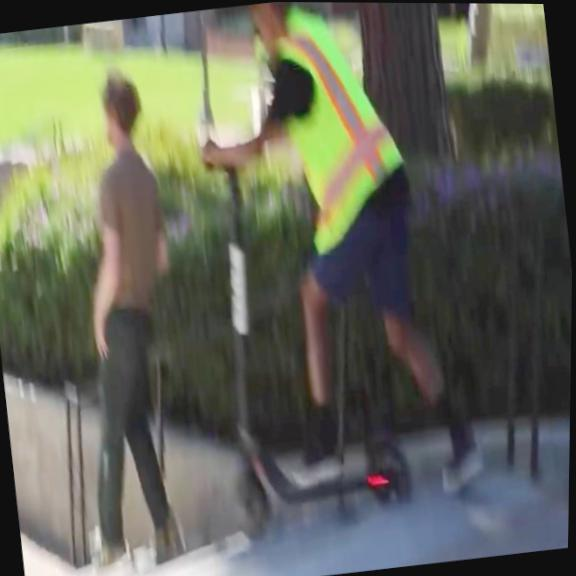safety_vest: (267, 2, 415, 265)
